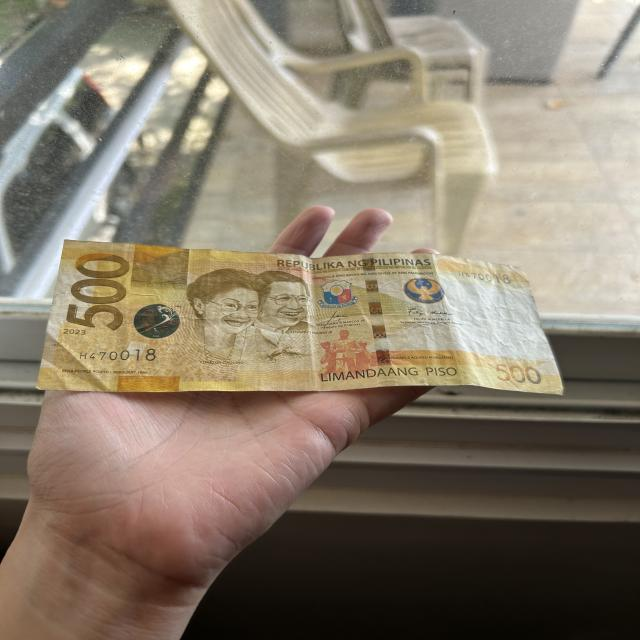concealed_value: (135, 248, 188, 288)
optically_variable_device: (132, 305, 180, 340)
